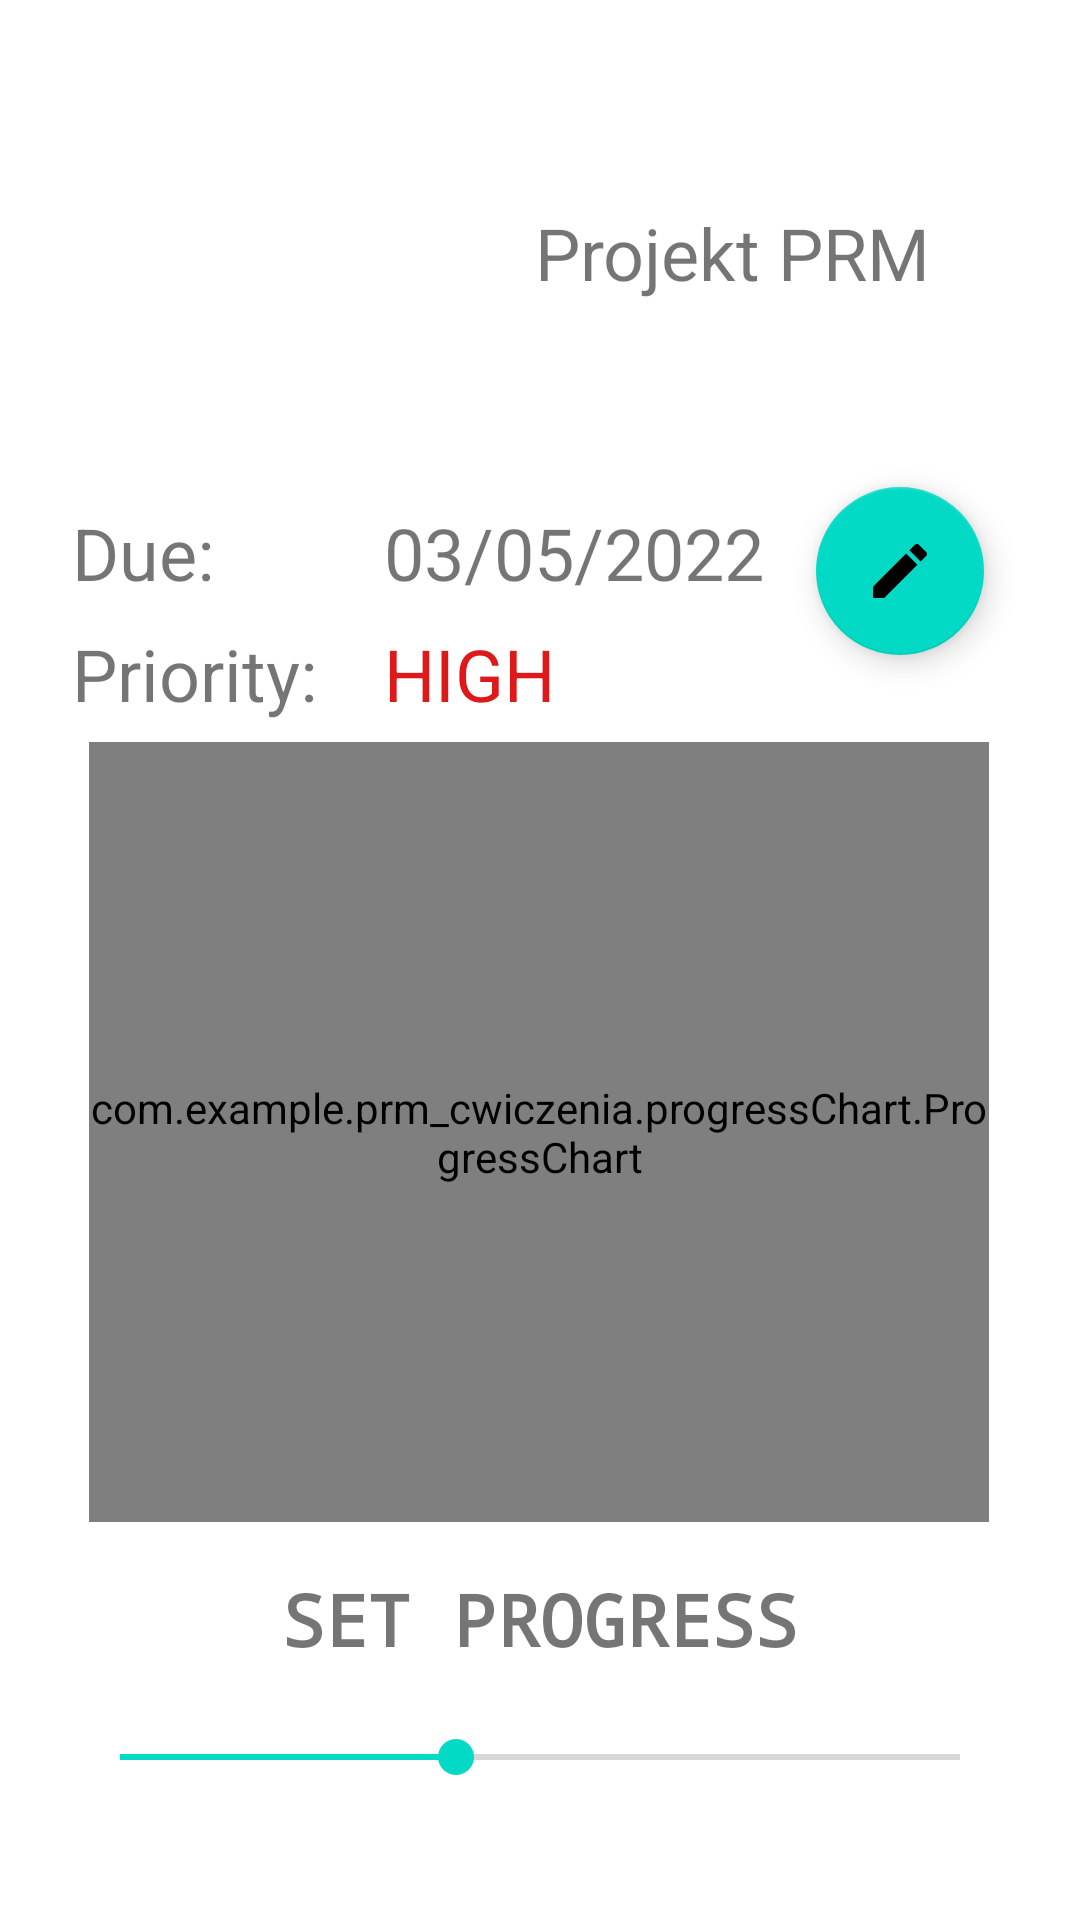

Named icons in this screenshot (1080px x 1920px) and their centers, point (x, y):
edit: point (900, 571)
